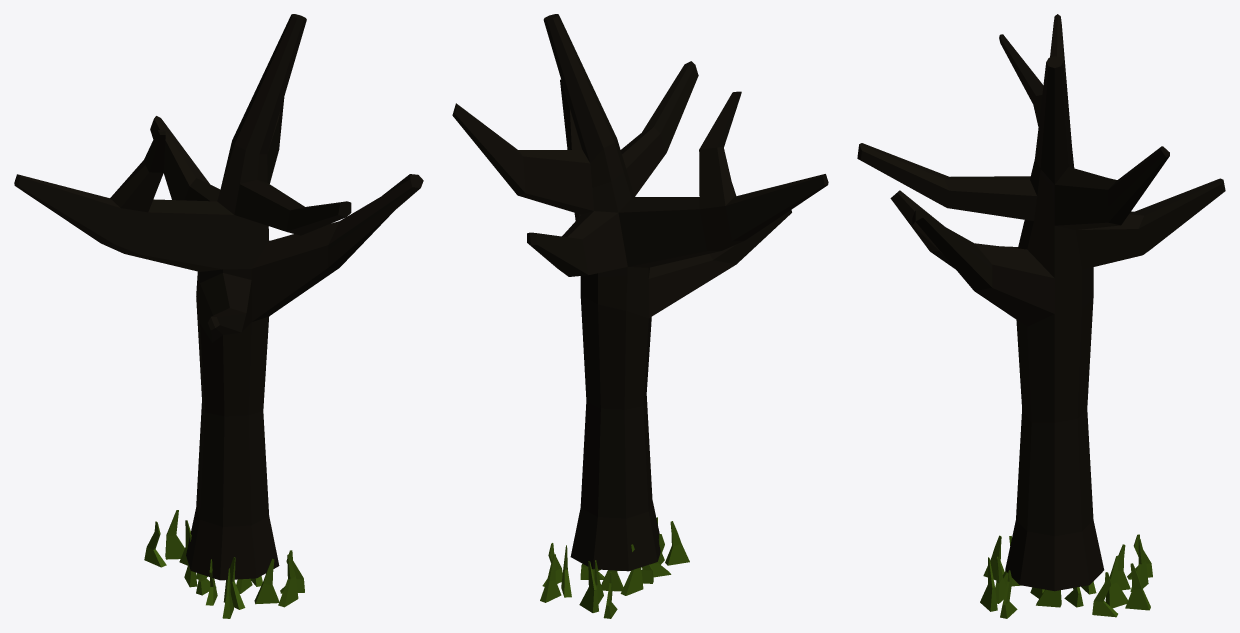
File: arvorePedraMoita.obj
3 renders of one model, left to right at view 1: azimuth 30°, elevation 25°; view 2: azimuth 150°, elevation 25°; view 3: azimuth 270°, elevation 25°, orthographic. The views are drawn at different scales.
Visible parts, largest first — view 1: Arbre_Automne_Cylinder.003, Cube.009_Cube.010, Cube.002, Cube.001; view 2: Arbre_Automne_Cylinder.003, Cube.003, Cube.002, Cube.000, Cube.001; view 3: Arbre_Automne_Cylinder.003, Cube.003, Cube.009_Cube.010, Cube.002, Cube.004.
Part boxes in pixels (x1,y1,x2,y2): Arbre_Automne_Cylinder.003: (14,14,423,580); Cube.009_Cube.010: (254,550,304,607); Cube.002: (144,510,190,567); Cube.001: (206,557,245,618); Arbre_Automne_Cylinder.003: (452,14,828,571); Cube.003: (540,543,571,602); Cube.002: (579,560,617,618); Cube.000: (601,544,653,595); Cube.001: (650,517,689,577); Arbre_Automne_Cylinder.003: (857,14,1225,591); Cube.003: (1092,555,1150,617); Cube.009_Cube.010: (980,556,1017,618); Cube.002: (1117,534,1152,591); Cube.004: (1030,587,1083,607).
Bounding box in the file's own units: 2.37 × 3.69 × 2.16.
